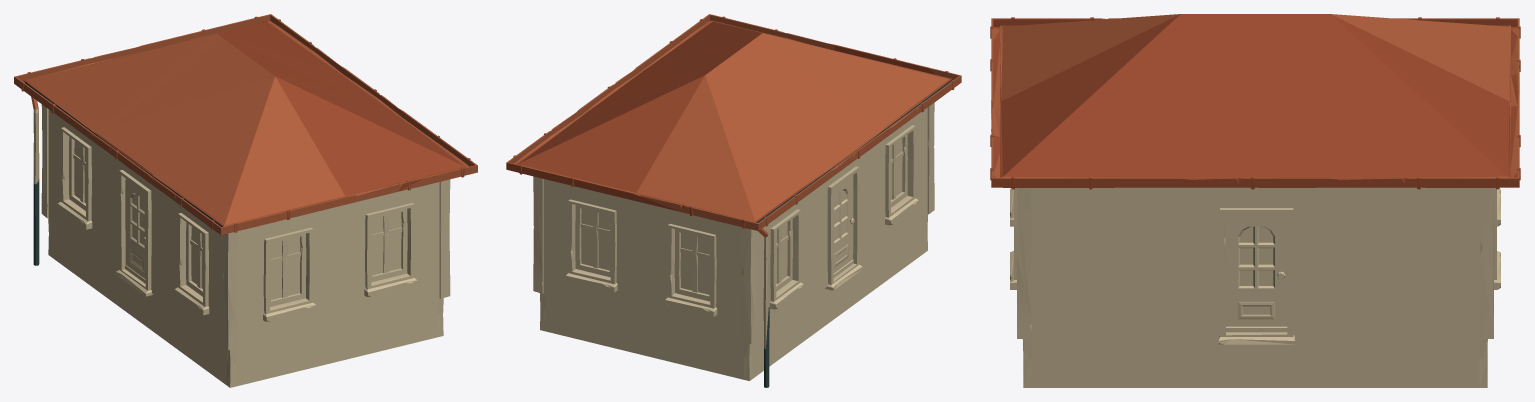
The model's file is house.glb.
3 views of the same model, side by side, from view 1: azimuth 30°, elevation 25°; view 2: azimuth 150°, elevation 25°; view 3: azimuth 270°, elevation 25° (orthographic). The views are drawn at different scales.
Parts seen in each view (by area): view 1: SM_Bld_House_Preset_01; view 2: SM_Bld_House_Preset_01; view 3: SM_Bld_House_Preset_01.
Boxes of the visible parts, bbox=[...] form: SM_Bld_House_Preset_01: bbox=[14, 14, 477, 387]; SM_Bld_House_Preset_01: bbox=[506, 14, 961, 387]; SM_Bld_House_Preset_01: bbox=[990, 14, 1520, 387].
Size of the model in its own units: 6.37 by 5.77 by 8.87.
